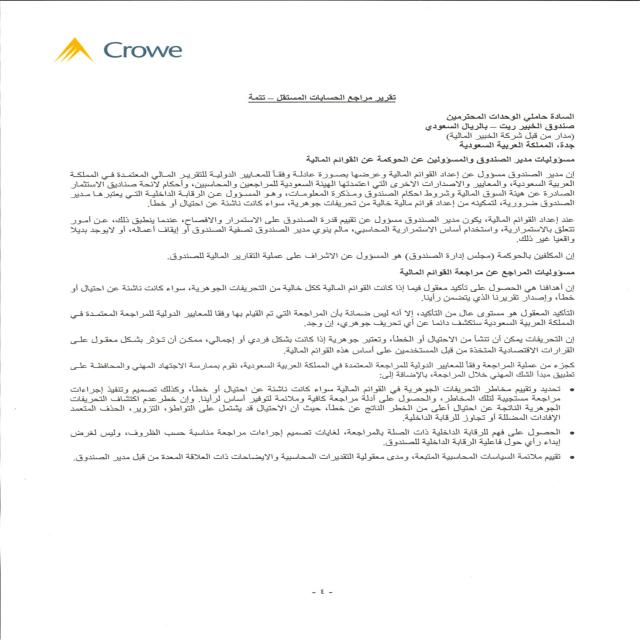auditor_report: (242, 90, 412, 111)
